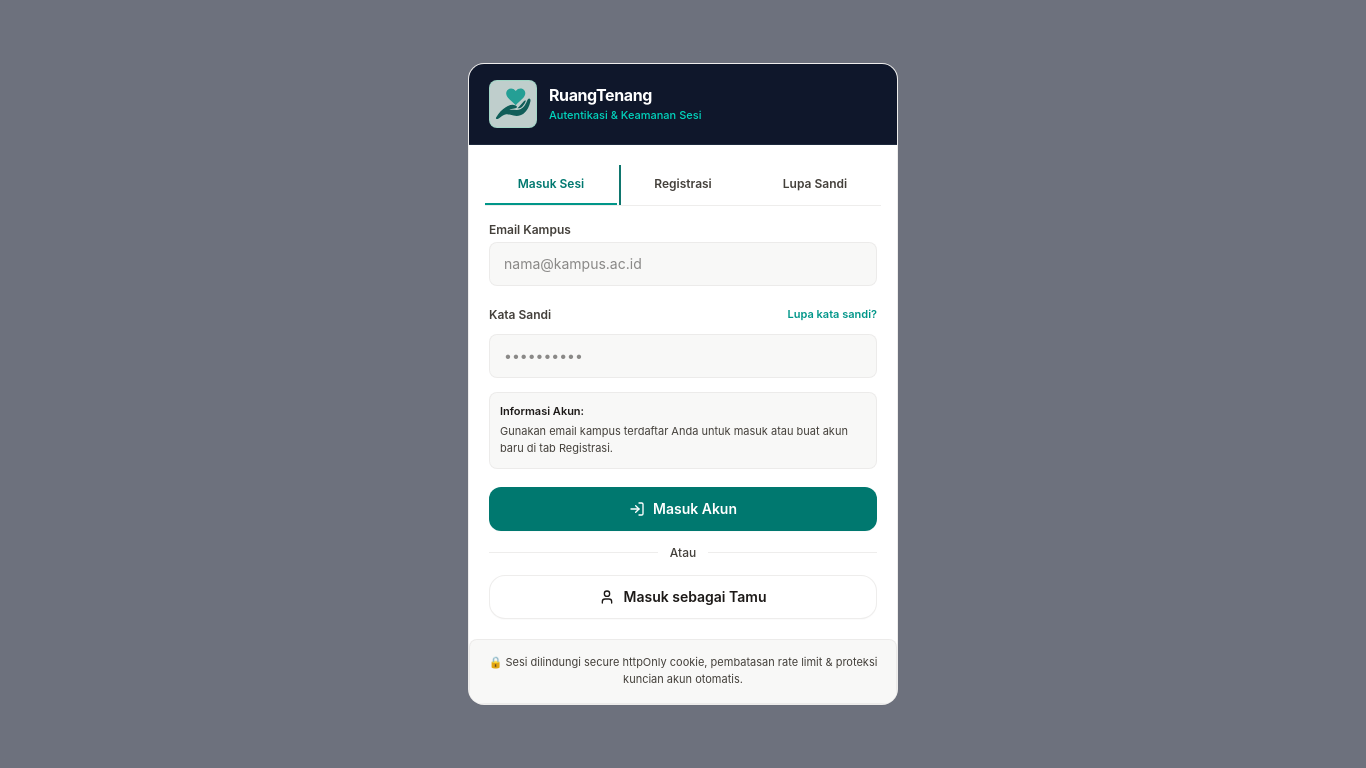
Test case: Auth Component Tests › switches to Register tab mode
Step 1. Click the button "Registrasi" → (683, 185), box [617,165,749,205]
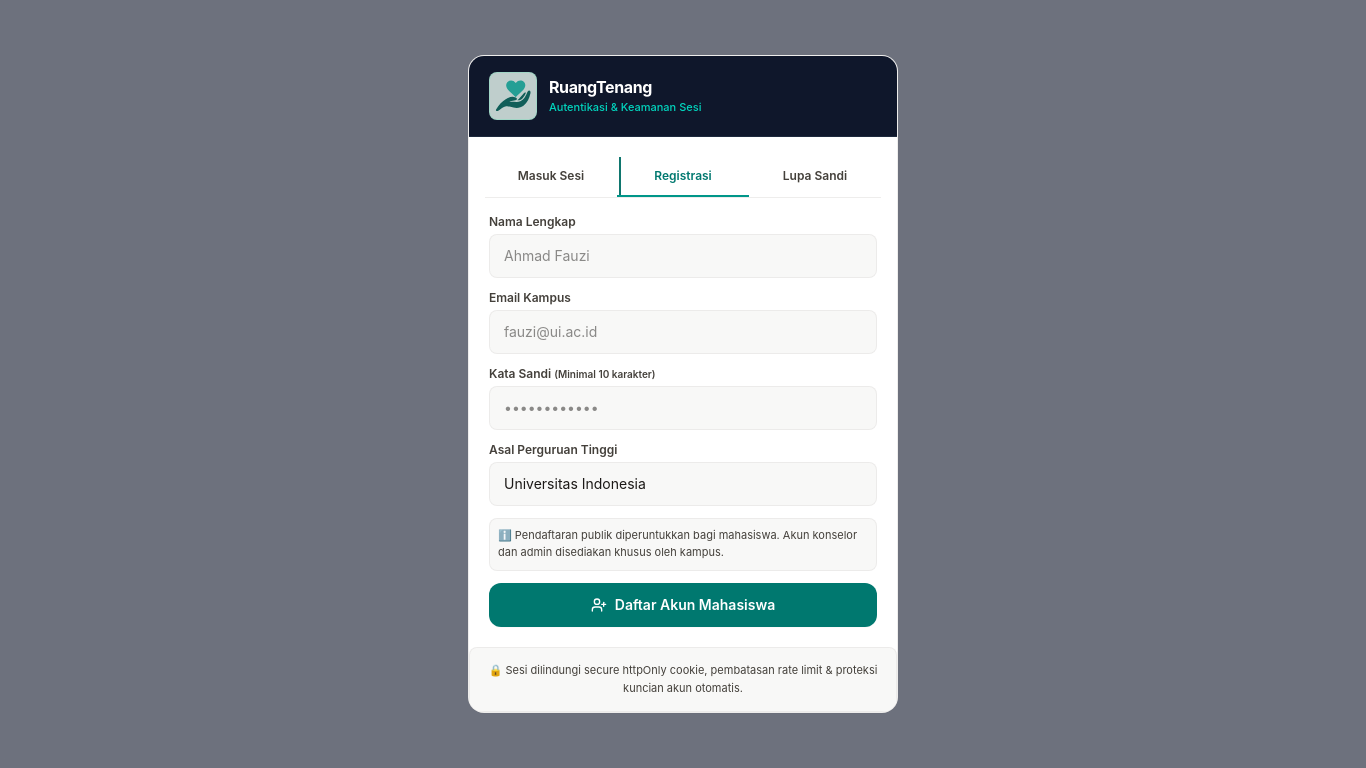
Expected: the text "Nama Lengkap" is shown, [489,214,576,229]
